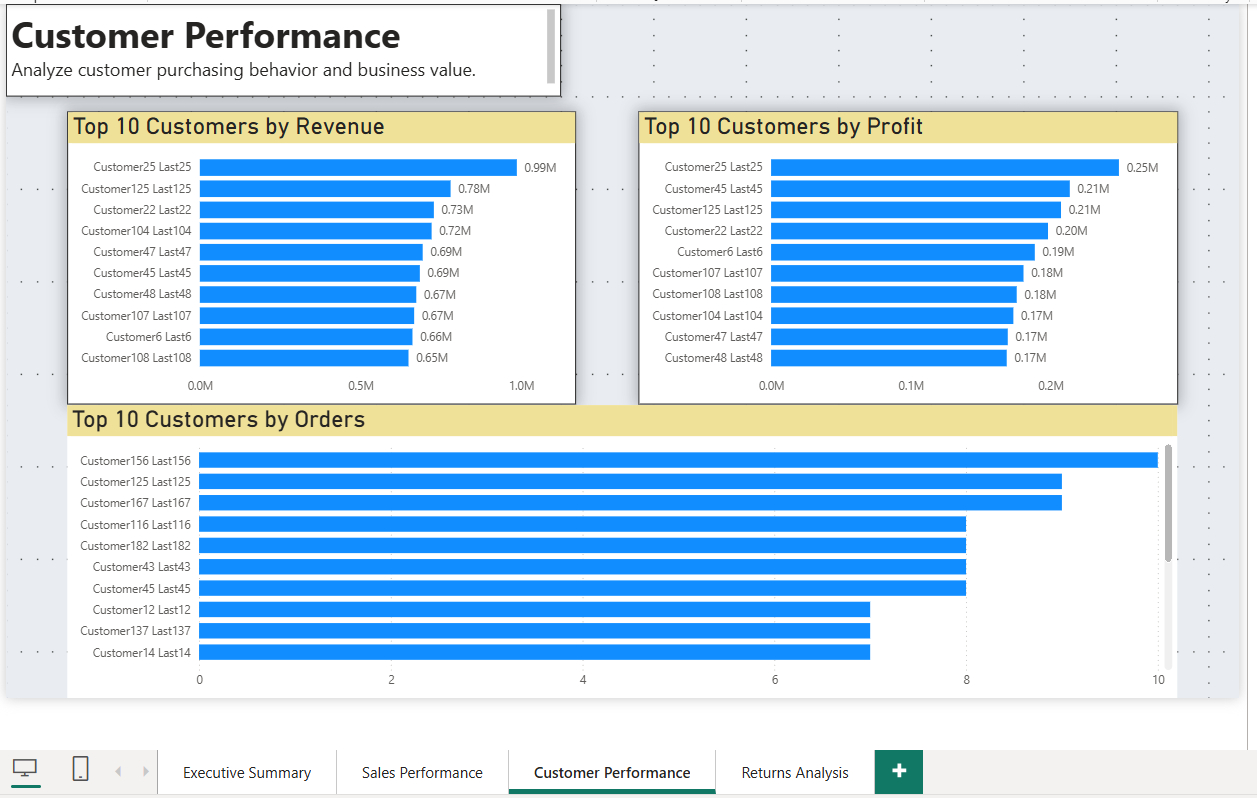

This screenshot's page, from the dashboard's own definition file:
{"tool":"powerbi","page":{"name":"Customer Performance","canvas":[1280,720],"ordinal":2},"visuals":[{"type":"textbox","box":[0,0,576,96],"z":0},{"type":"barChart","title":"Top 10 Customers by Revenue","fields":{"Category":["vw_customer_performance.customer_full_name"],"Y":["Sum(vw_customer_performance.customer_total_revenue)"]},"box":[64,112,528,304],"z":1000},{"type":"barChart","title":"Top 10 Customers by Profit","fields":{"Category":["vw_customer_performance.customer_full_name"],"Y":["Sum(vw_customer_performance.customer_total_profit)"]},"box":[656,112,560,304],"z":2000},{"type":"barChart","title":"Top 10 Customers by Orders","fields":{"Category":["vw_customer_performance.customer_full_name"],"Y":["Sum(vw_customer_performance.customer_total_orders)"]},"box":[64,416,1152,304],"z":3000}]}

Visuals, with their boxes on the page's 1280x720 design canvas (x1, y1, x2, y2). These are canvas units, not pixel positions in the 1257x798 screenshot, which may show the page scaled, cropped or inside an application window:
textbox: x1=0, y1=0, x2=576, y2=96
"Top 10 Customers by Revenue" barChart: x1=64, y1=112, x2=592, y2=416
"Top 10 Customers by Profit" barChart: x1=656, y1=112, x2=1216, y2=416
"Top 10 Customers by Orders" barChart: x1=64, y1=416, x2=1216, y2=720
